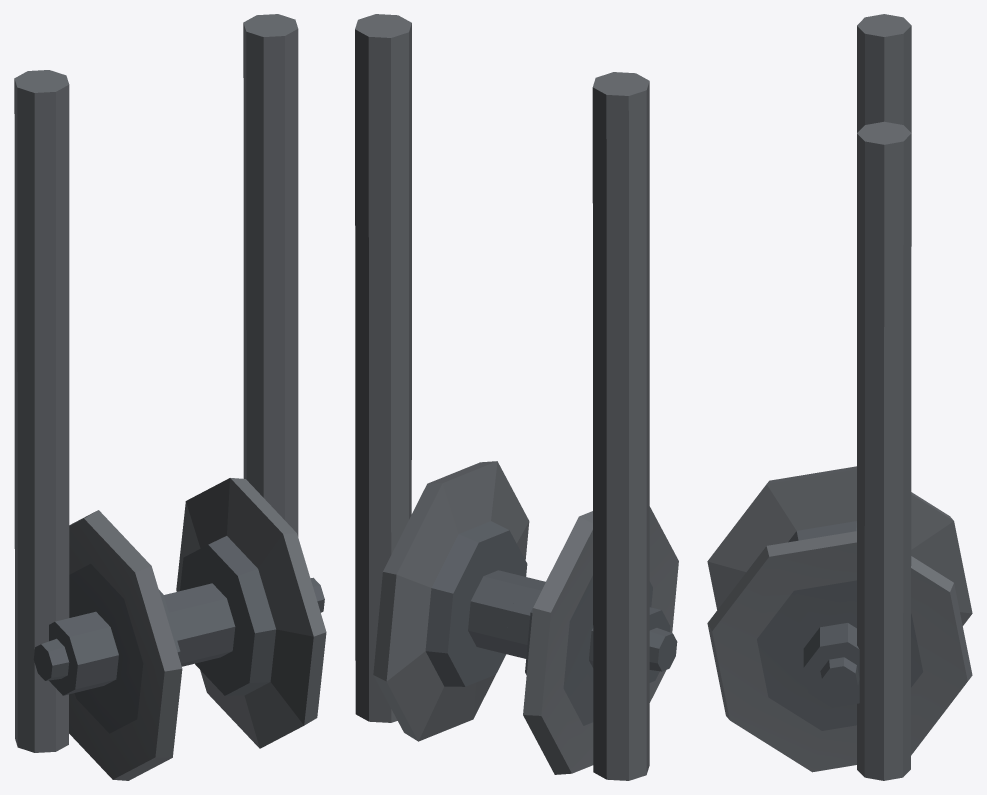
Rendered from SM_Veh_Motorbike_Front_Shock_01.obj.
3 views of the same model, side by side, from view 1: azimuth 30°, elevation 25°; view 2: azimuth 150°, elevation 25°; view 3: azimuth 270°, elevation 25° (orthographic). The views are drawn at different scales.
Visible parts, largest first — view 1: SM_Veh_Motorbike_Front_Shock_01_0; view 2: SM_Veh_Motorbike_Front_Shock_01_0; view 3: SM_Veh_Motorbike_Front_Shock_01_0.
Boxes of the visible parts, box(x1,y1,x2,y2) form: SM_Veh_Motorbike_Front_Shock_01_0: box(14, 14, 326, 780); SM_Veh_Motorbike_Front_Shock_01_0: box(355, 14, 678, 780); SM_Veh_Motorbike_Front_Shock_01_0: box(707, 14, 972, 780).
Bounding box in the file's own units: 0.2781 × 0.6533 × 0.2382.
Materials: 1 (1 with a texture image).
